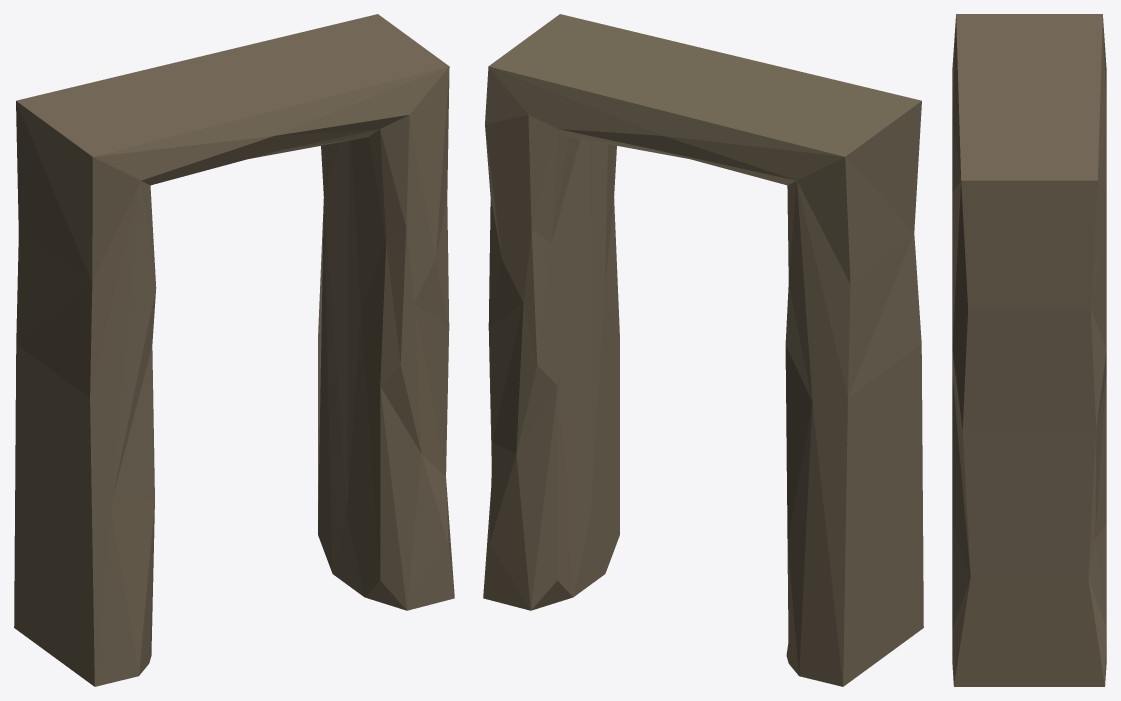
File: Door_2_2_low.fbx
3 renders of one model, left to right at view 1: azimuth 30°, elevation 25°; view 2: azimuth 150°, elevation 25°; view 3: azimuth 270°, elevation 25°, orthographic. The views are drawn at different scales.
Visible parts, largest first — view 1: Door_2_2_low; view 2: Door_2_2_low; view 3: Door_2_2_low.
Boxes of the visible parts, <box> form: Door_2_2_low: <box>14,14,454,686</box>; Door_2_2_low: <box>483,14,923,686</box>; Door_2_2_low: <box>952,14,1106,686</box>.
Bounding box in the file's own units: 1.75 × 2.45 × 0.6758.
